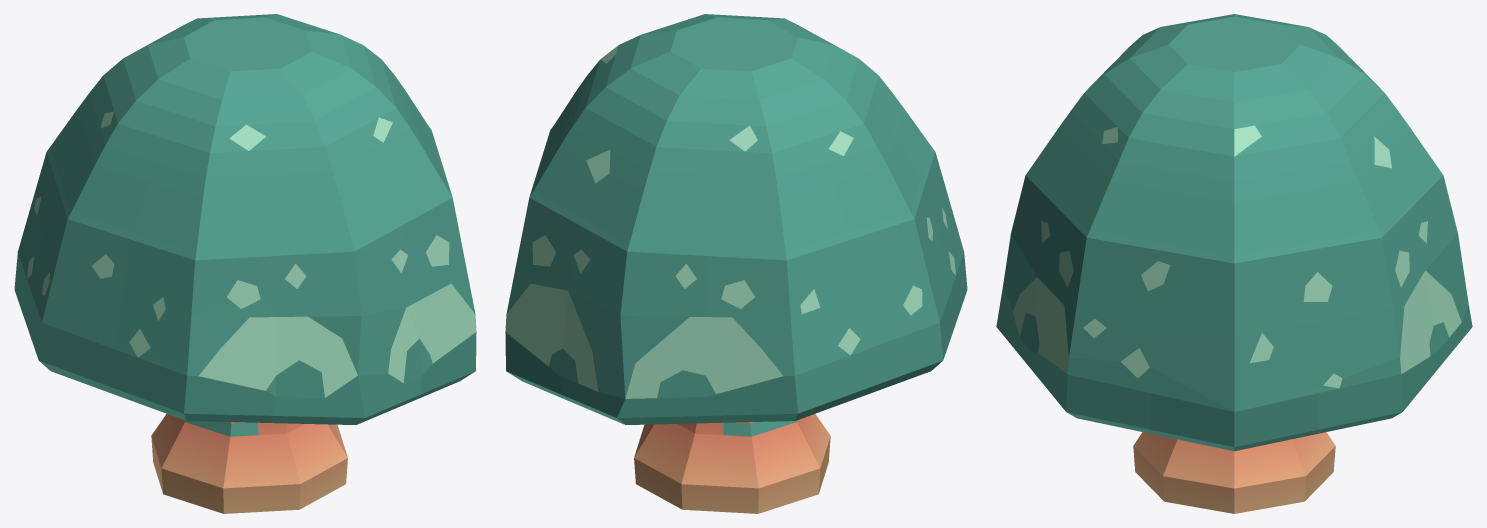
The model's file is Garden_CapShroom02.fbx.
3 views of the same model, side by side, from view 1: azimuth 30°, elevation 25°; view 2: azimuth 150°, elevation 25°; view 3: azimuth 270°, elevation 25° (orthographic).
Parts seen in each view (by area): view 1: Cylinder.321; view 2: Cylinder.321; view 3: Cylinder.321.
Boxes of the visible parts, x1,y1,x2,y2 form: Cylinder.321: (14, 14, 476, 513); Cylinder.321: (505, 14, 967, 513); Cylinder.321: (996, 14, 1472, 513).
Bounding box in the file's own units: 78.72 × 79.08 × 78.44.
